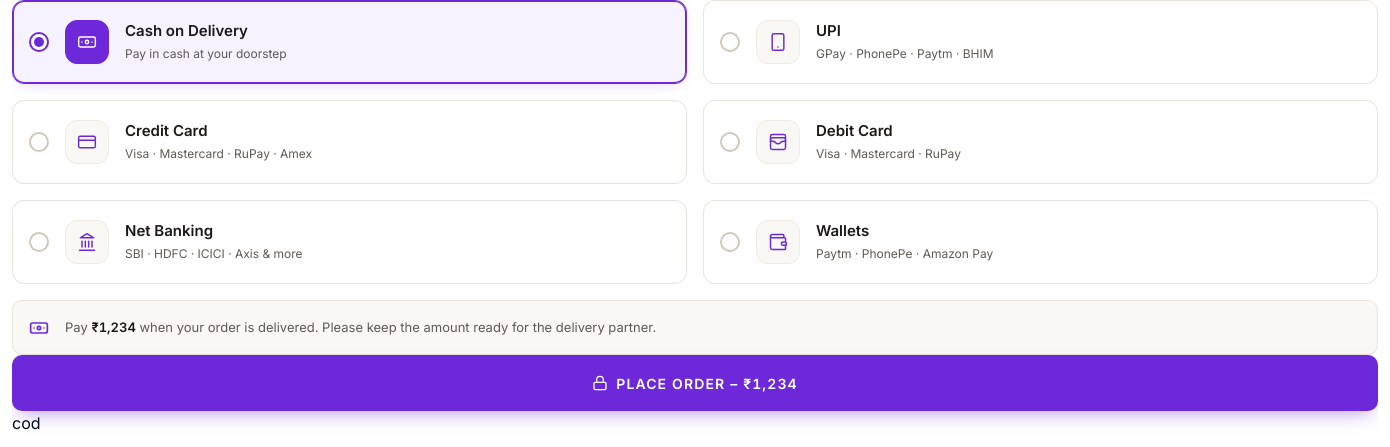
Scenario: CheckoutCta › Credit Card never submits: no payment attempt, no silent switch to COD
What coordinates should you click on to do the following:
click the radio button labelled "Credit Card Visa · Mastercard · RuPay · Amex"
I would click on:
 (87, 142)
Its box is [12, 100, 687, 184].
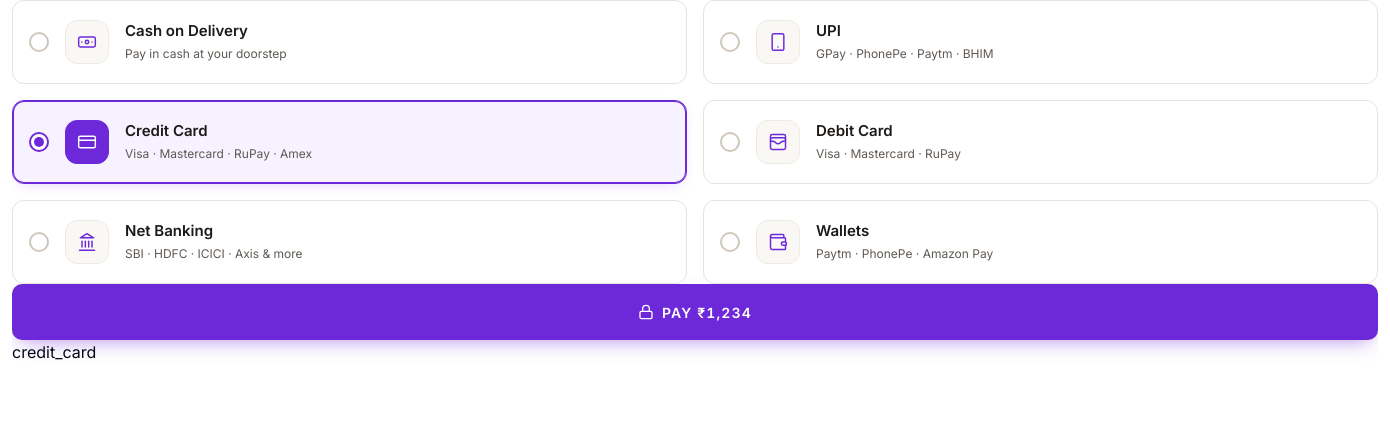
What coordinates should you click on to do the following:
click the button "Pay ₹1,234"
I would click on:
 (695, 312)
Its box is [12, 284, 1378, 340].
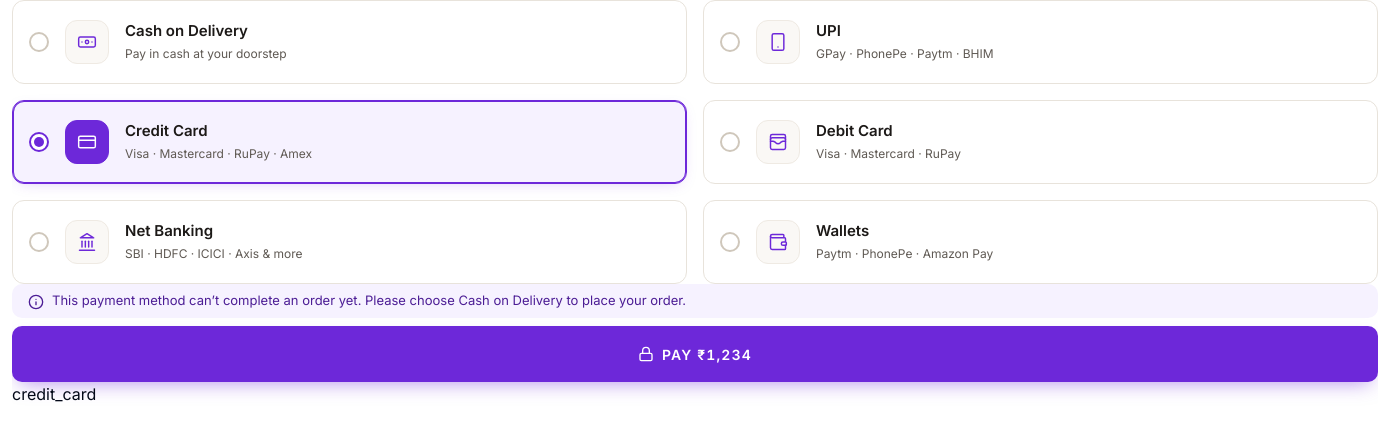
Result: the radio button labelled "Credit Card Visa · Mastercard · RuPay · Amex" is checked at [12, 100, 687, 184]
Result: the message shows "Please choose Cash on Delivery" at [52, 292, 686, 308]
